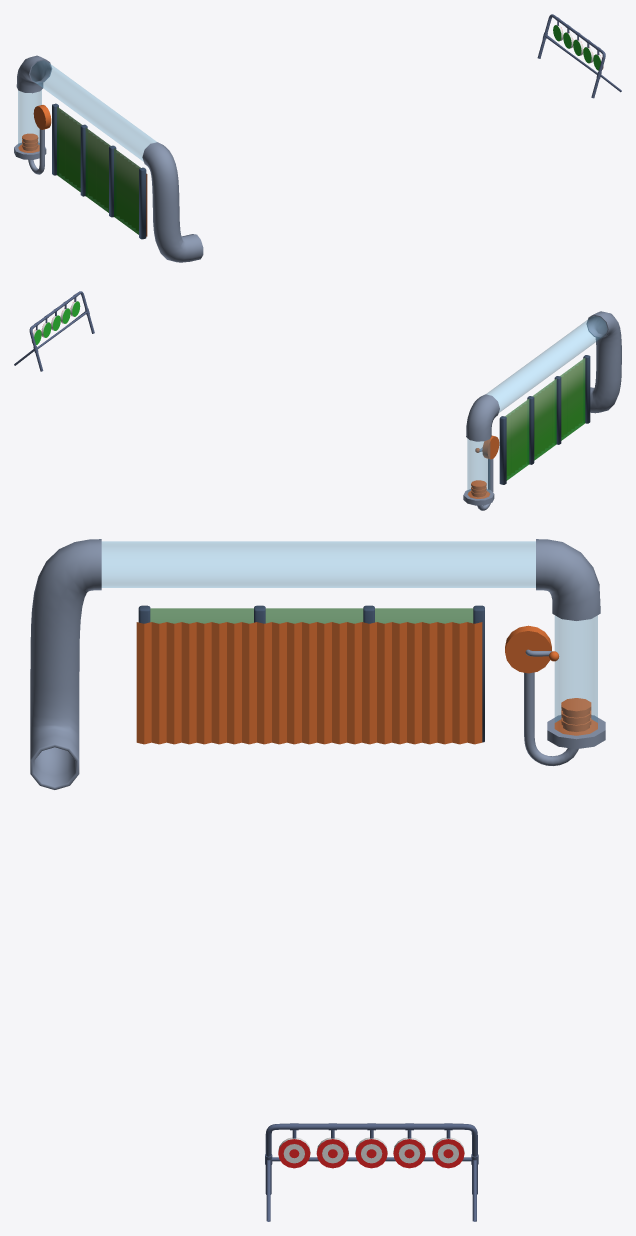
Rendered from Aim5.fbx.
3 renders of one model, top to bottom at view 1: azimuth 30°, elevation 25°; view 2: azimuth 150°, elevation 25°; view 3: azimuth 270°, elevation 25°, orthographic. The views are drawn at different scales.
Parts seen in each view (by area): view 1: NurbsPath, Plane.002, Plane.003, Plane.004, NurbsPath.004, Sphere; view 2: NurbsPath, Plane.002, Plane.004, Plane.003, NurbsPath.004, Sphere; view 3: NurbsPath, Plane.007, Sphere, NurbsPath.004, Plane.004, Plane.002, Plane.003.
Part boxes in pixels (<box>): NurbsPath: <box>14,55,203,262</box>; Plane.002: <box>109,145,146,239</box>; Plane.003: <box>80,124,110,212</box>; Plane.004: <box>52,103,81,191</box>; NurbsPath.004: <box>537,14,621,98</box>; Sphere: <box>28,105,51,174</box>; NurbsPath: <box>463,311,621,505</box>; Plane.002: <box>554,355,590,444</box>; Plane.004: <box>499,399,529,484</box>; Plane.003: <box>527,379,556,464</box>; NurbsPath.004: <box>14,291,94,371</box>; Sphere: <box>475,435,499,510</box>; NurbsPath: <box>30,539,605,789</box>; Plane.007: <box>136,622,482,744</box>; Sphere: <box>505,625,578,765</box>; NurbsPath.004: <box>265,1123,478,1221</box>; Plane.004: <box>375,605,484,742</box>; Plane.002: <box>138,605,265,623</box>; Plane.003: <box>265,605,374,623</box>.
Size of the model in its own units: 1.97 by 0.4177 by 0.9739.
